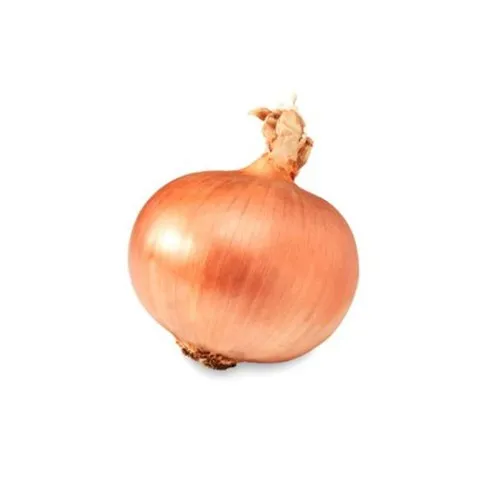onion: (106, 39, 377, 394)
